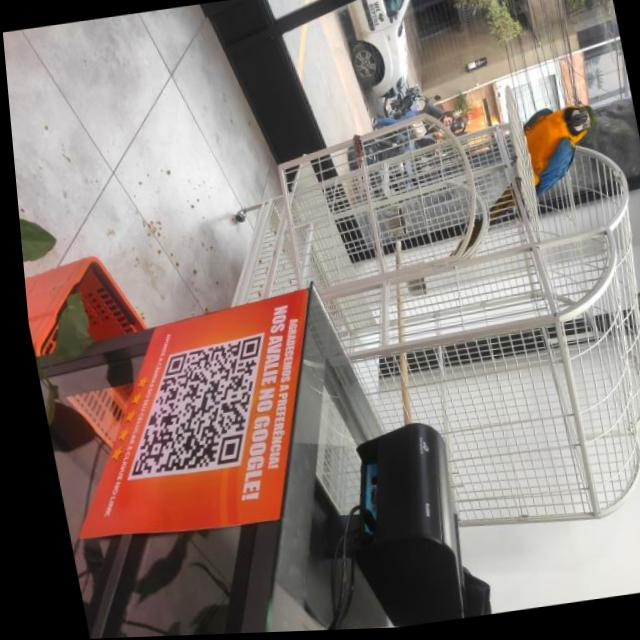qrcode: (101, 339, 277, 480)
